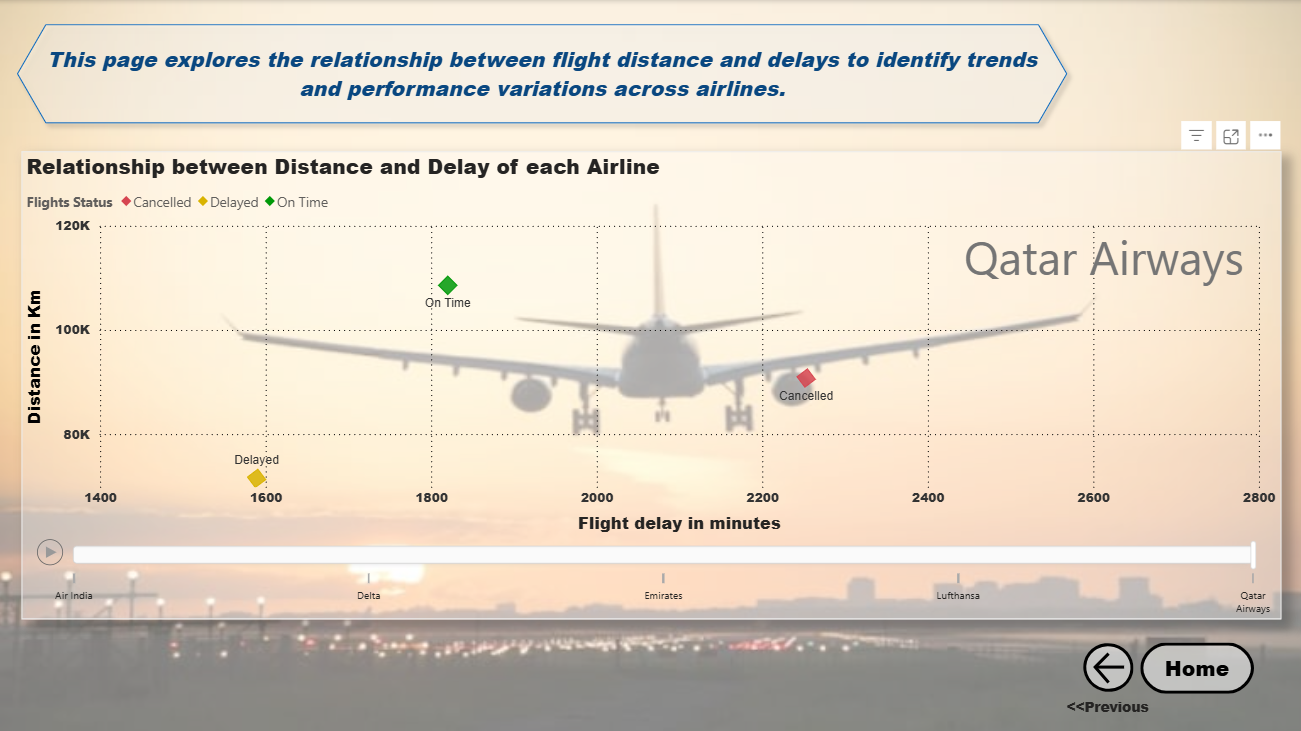

The dashboard page shown, as its layout file describes it:
{"tool":"powerbi","page":{"name":"Page 5","canvas":[1280,720],"ordinal":4},"visuals":[{"type":"scatterChart","title":"Relationship between Distance and Delay  of each Airline","fields":{"Series":["Flights.Flights.Status"],"X":["Sum(Flights.Flights.Delay_Minutes)"],"Y":["Sum(Flights.Flights.Distance_km)"],"Play":["Airlines.Airlines.Airline_Name"]},"box":[22.1,148.5,1236.8,460.1],"z":0},{"type":"textbox","title":"<<Previous","box":[1043,684.7,92,27],"z":1000},{"type":"actionButton","box":[1057.7,625.8,62.6,58.9],"z":2000},{"type":"actionButton","box":[1120.3,630.7,111.7,50.3],"z":3000},{"type":"actionButton","box":[1069.9,635.6,50.3,40.5],"z":4000},{"type":"shape","box":[8.6,14.7,1049.1,115.3],"z":5000}]}

Visuals, with their boxes in screenshot pixels (x1, y1, x2, y2), scaled from the page's 1280x720 canvas onto the 1301x731 screenshot:
"Relationship between Distance and Delay  of each Airline" scatterChart: (left=22, top=151, right=1280, bottom=618)
"<<Previous" textbox: (left=1060, top=695, right=1154, bottom=723)
actionButton: (left=1075, top=635, right=1139, bottom=695)
actionButton: (left=1139, top=640, right=1252, bottom=691)
actionButton: (left=1087, top=645, right=1139, bottom=686)
shape: (left=9, top=15, right=1075, bottom=132)
